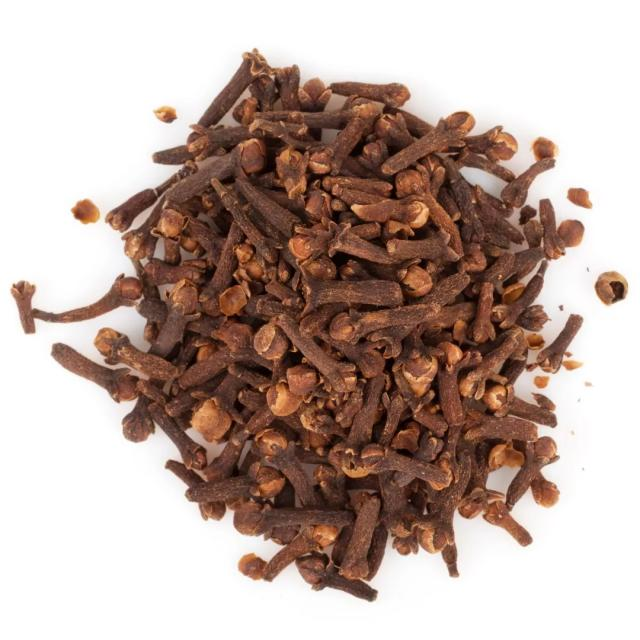clove: (96, 56, 550, 549)
